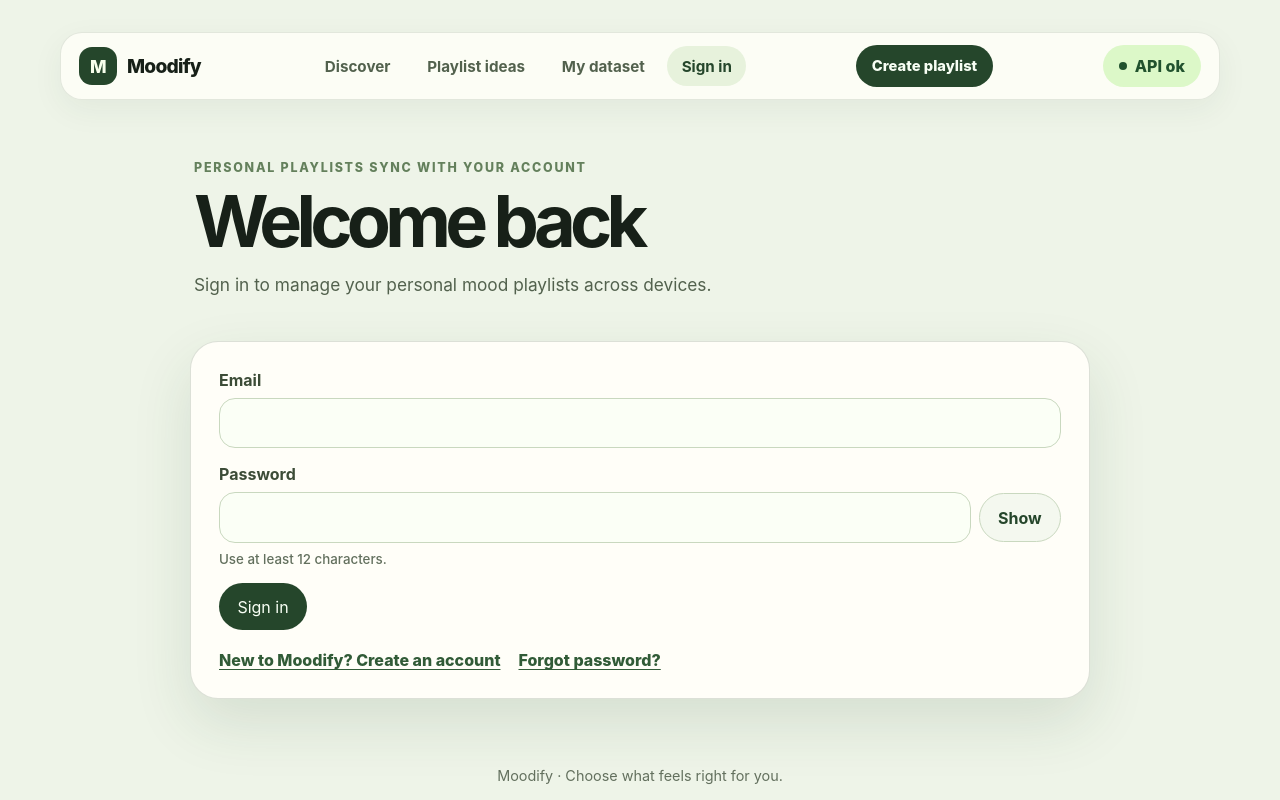
it: mood playlist choices › lands on Discover after signing in directly from the account page
Check: the heading "Welcome back" is shown, box [194,177,643,264]
Type "listener@example.com" into the field labelled "Email" at (640, 423), box [219,398,1061,448]
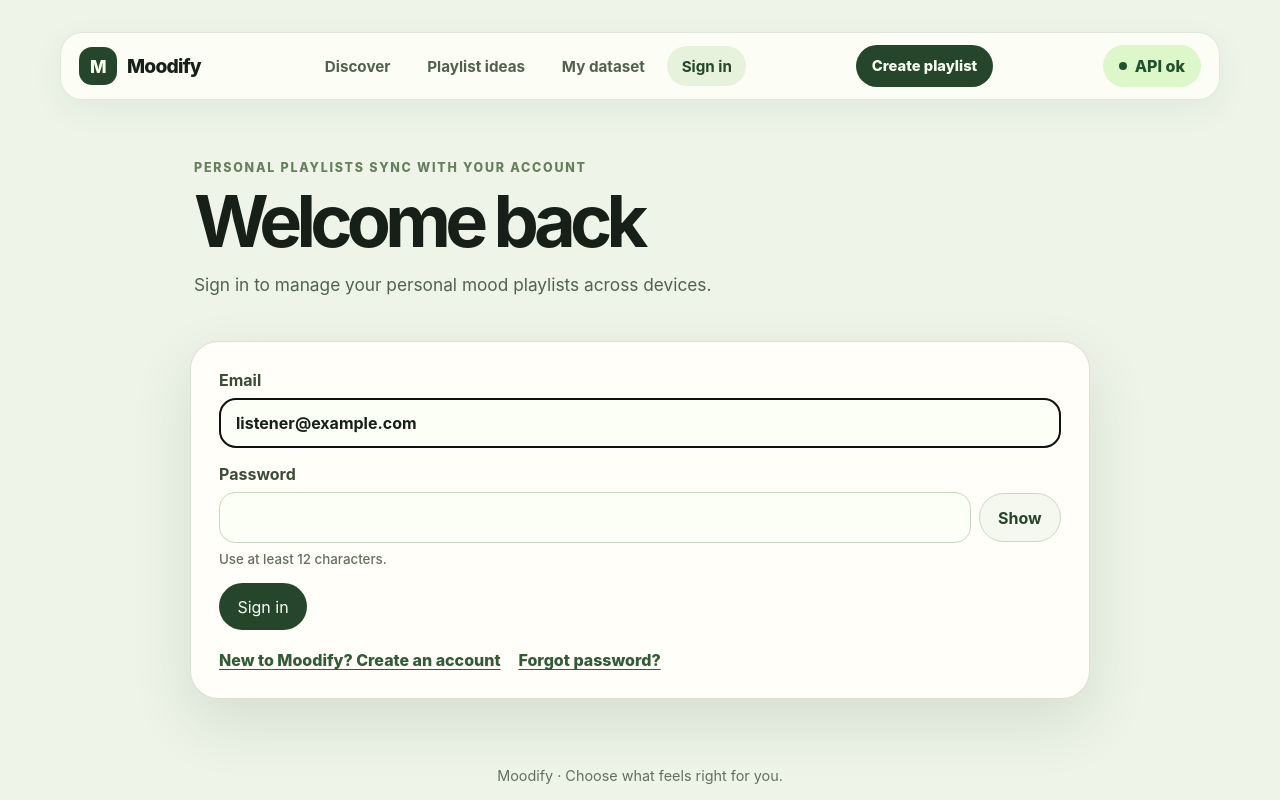
Type "a-long-enough-test-password" into the password field labelled "Password Show Use at least 12 characters." at (595, 518), box [219,492,971,543]
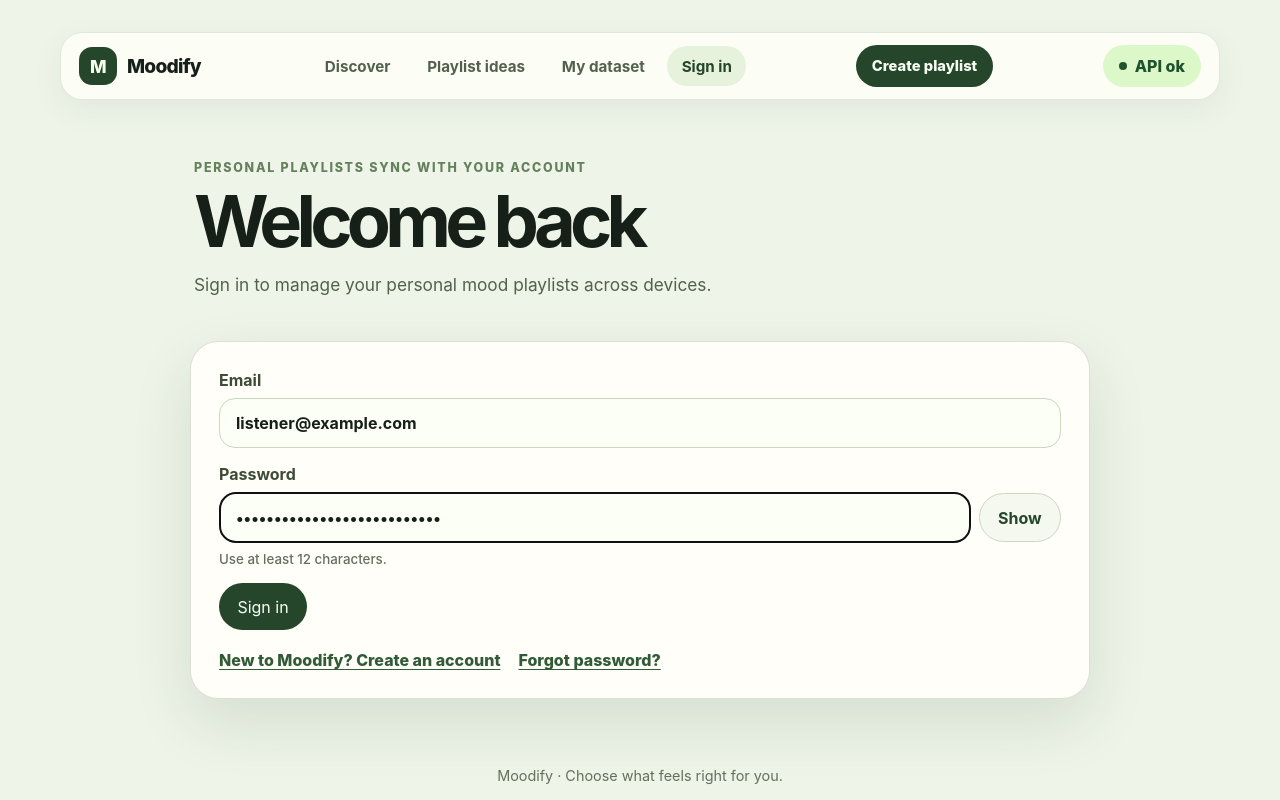
Click the button "Sign in" at (263, 607), box [219,583,307,630]
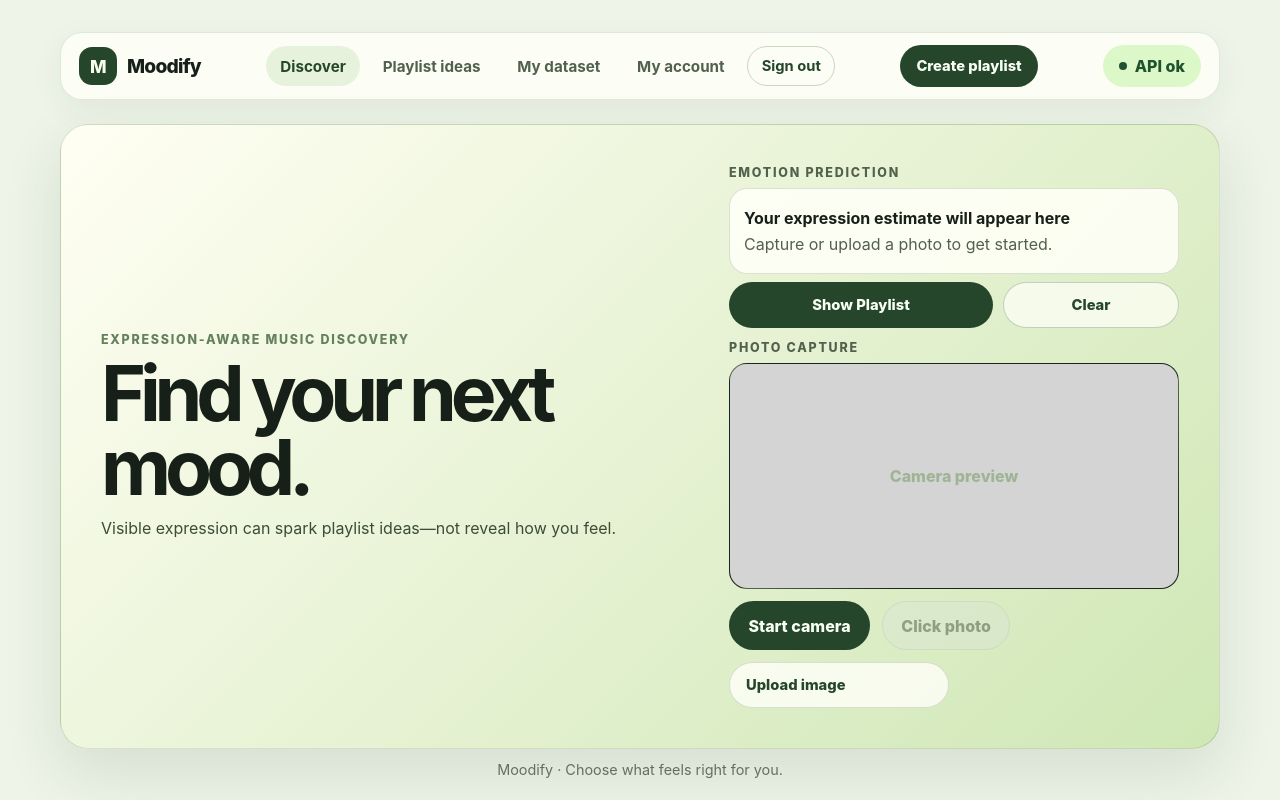
Check: the heading "Find your next mood." is shown, box [101,347,550,514]
